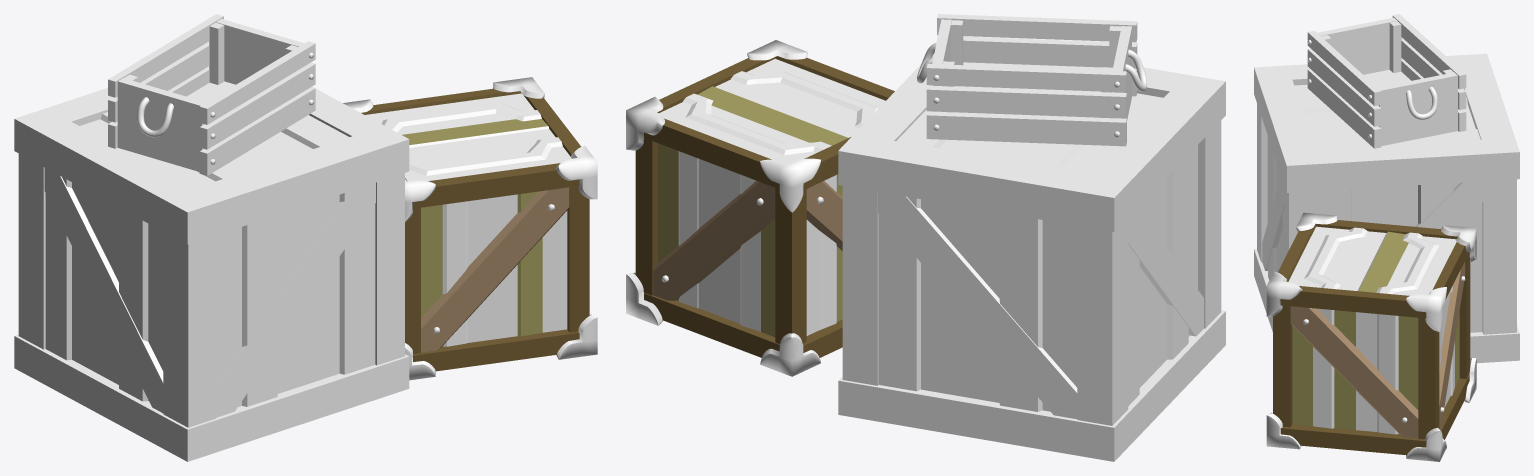
File: crate_stack_mixed.glb
3 views of the same model, side by side, from view 1: azimuth 30°, elevation 25°; view 2: azimuth 150°, elevation 25°; view 3: azimuth 270°, elevation 25° (orthographic). The views are drawn at different scales.
Visible parts, largest first — view 1: Prop_Crate, Cube035, Cube127, Cube035_1; view 2: Prop_Crate, Cube035, Cube035_1, Cube127; view 3: Prop_Crate, Cube035, Cube035_1, Cube127.
Part boxes in pixels (<box>): Prop_Crate: <box>14,86,409,461</box>; Cube035: <box>365,93,571,352</box>; Cube127: <box>108,14,315,175</box>; Cube035_1: <box>343,77,597,380</box>; Prop_Crate: <box>838,53,1225,461</box>; Cube035: <box>653,58,885,336</box>; Cube035_1: <box>626,40,894,376</box>; Cube127: <box>917,14,1147,146</box>; Prop_Crate: <box>1254,53,1519,363</box>; Cube035: <box>1288,226,1465,438</box>; Cube035_1: <box>1266,212,1476,461</box>; Cube127: <box>1307,14,1466,148</box>.
Bounding box in the file's own units: 1.85 × 1.14 × 1.04.
